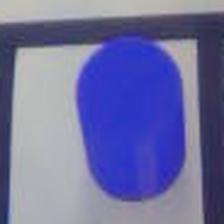cylinder: (60, 29, 197, 205)
